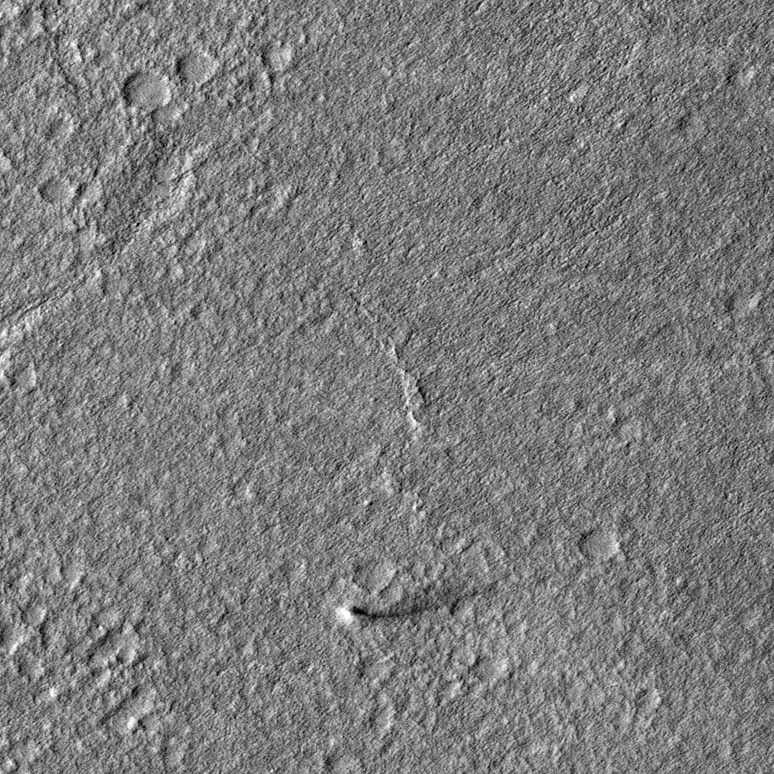dust_devil: (332, 577, 498, 628)
